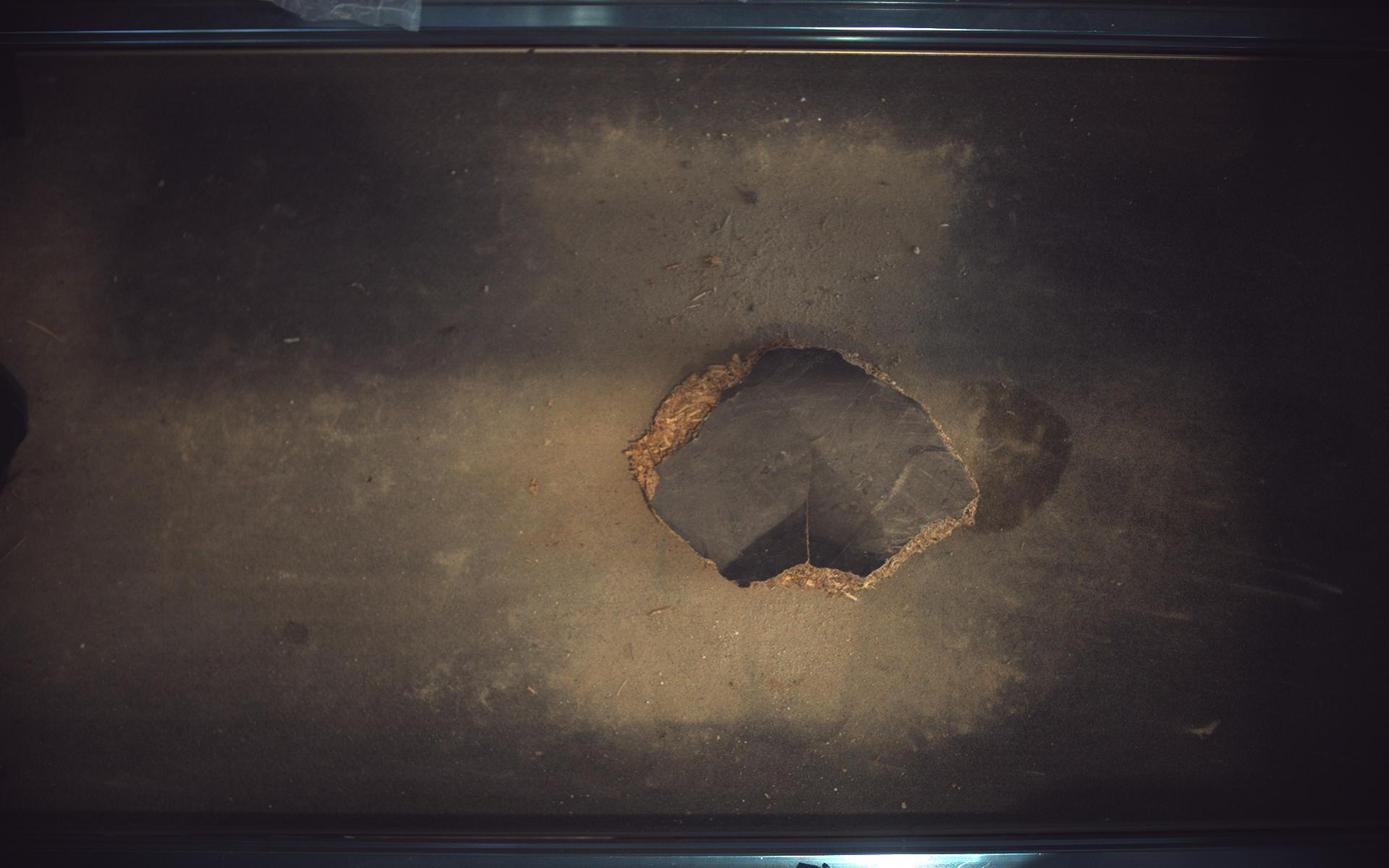wood: (626, 339, 982, 595)
